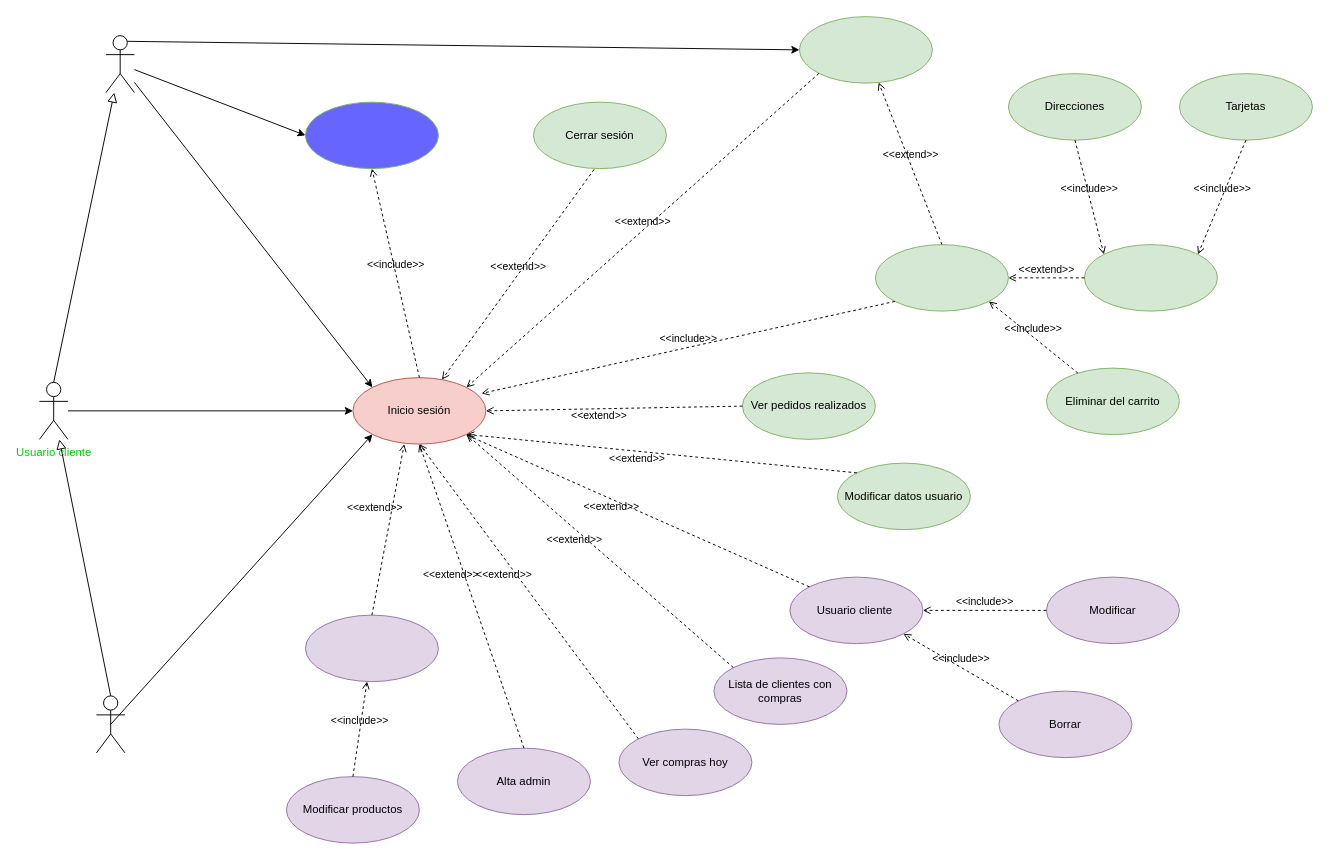
The diagram is 1329 pixels wide and 860 high, and some of its shapes have lost their labels. Each missing label, with the centre of its shape:
"Administrador" belongs at point 110,724.
"Carrito" belongs at point 941,277.
"Cheackout" belongs at point 1150,277.
"Registro" belongs at point 371,135.
"Tienda vinos añadir al carro" belongs at point 865,49.
"Usuario invitado" belongs at point 119,64.
"Ver productos" belongs at point 371,648.
